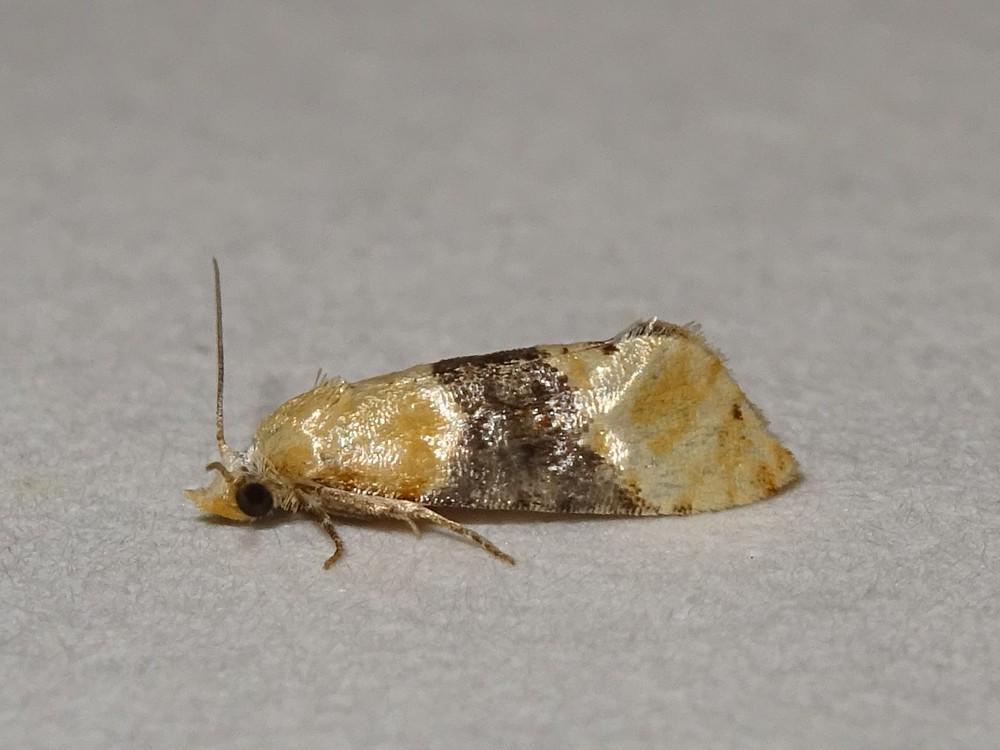Eupoecilia Ambiguella: (183, 253, 804, 573)
